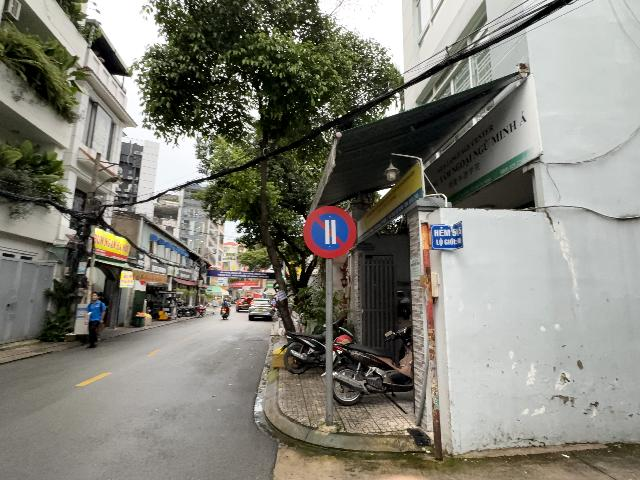cam-do-xe-ngay-chan: (304, 206, 357, 259)
